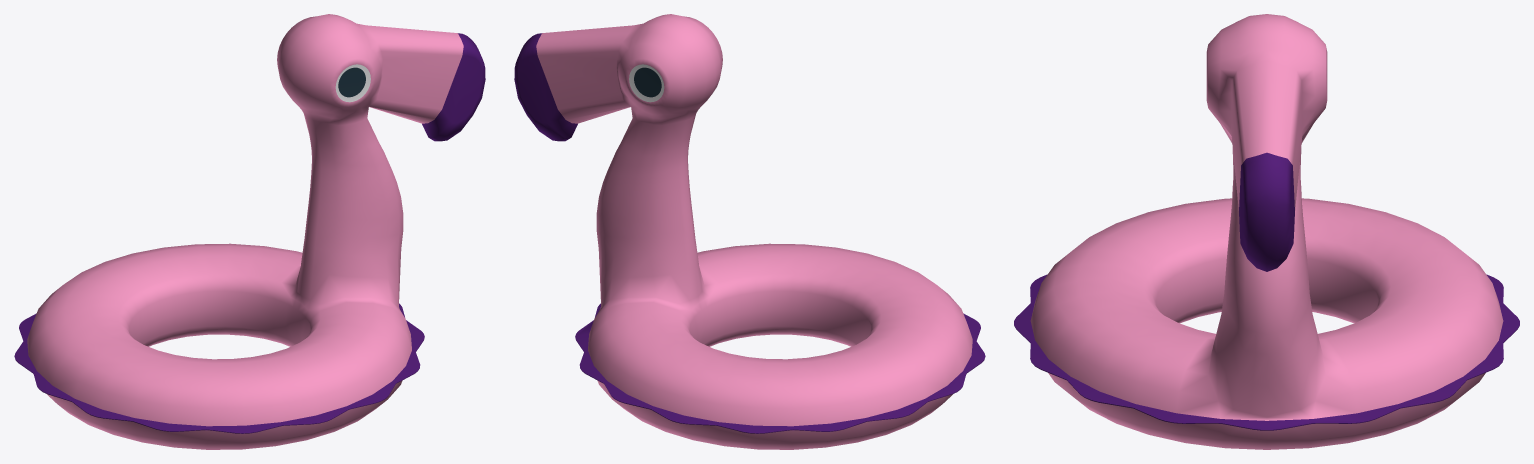
The model's file is SwimmingRing02.fbx.
3 views of the same model, side by side, from view 1: azimuth 30°, elevation 25°; view 2: azimuth 150°, elevation 25°; view 3: azimuth 270°, elevation 25° (orthographic). The views are drawn at different scales.
Parts seen in each view (by area): view 1: SwimmingRing02; view 2: SwimmingRing02; view 3: SwimmingRing02.
Boxes of the visible parts, x1,y1,x2,y2 form: SwimmingRing02: (14,14,485,449); SwimmingRing02: (514,14,985,449); SwimmingRing02: (1014,14,1519,449).
Size of the model in its own units: 73.91 by 54.32 by 60.
